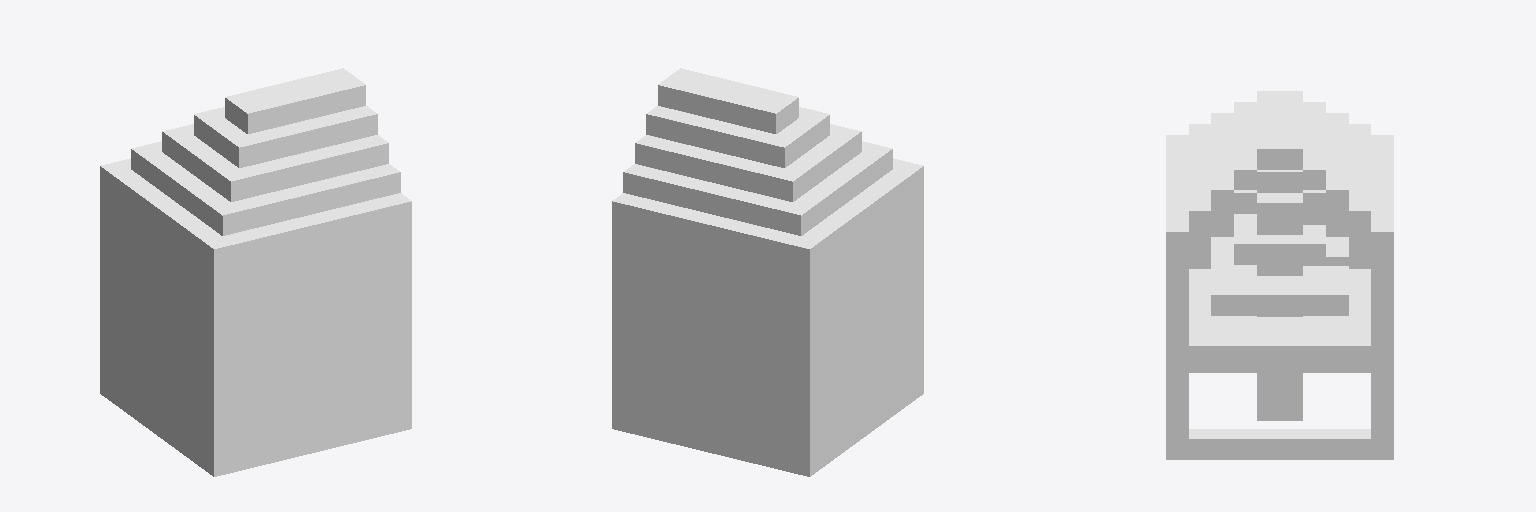
File: HibernationPineCone.obj
The picture shows the model from 3 angles: view 1: azimuth 30°, elevation 25°; view 2: azimuth 150°, elevation 25°; view 3: azimuth 270°, elevation 25°; orthographic projection.
Bounding box in the file's own units: 10 × 15 × 10.